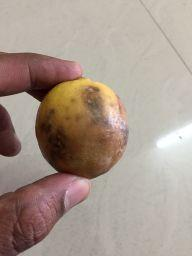lemon: (37, 73, 130, 179)
